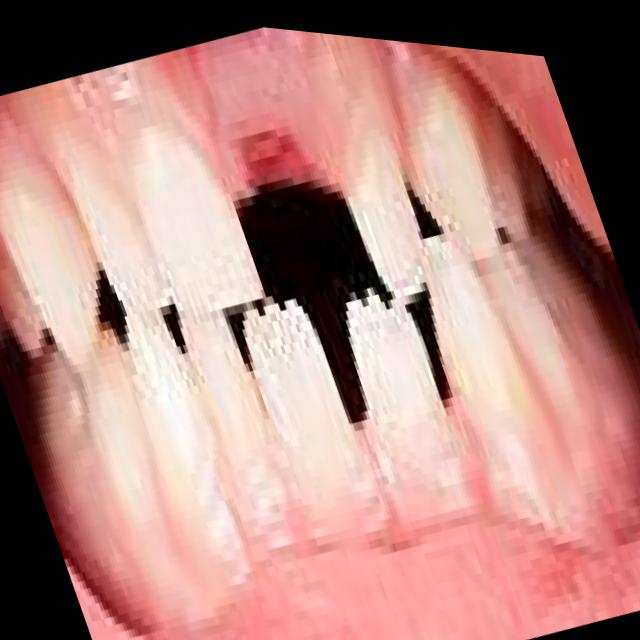hypodontia: (99, 27, 421, 303)
